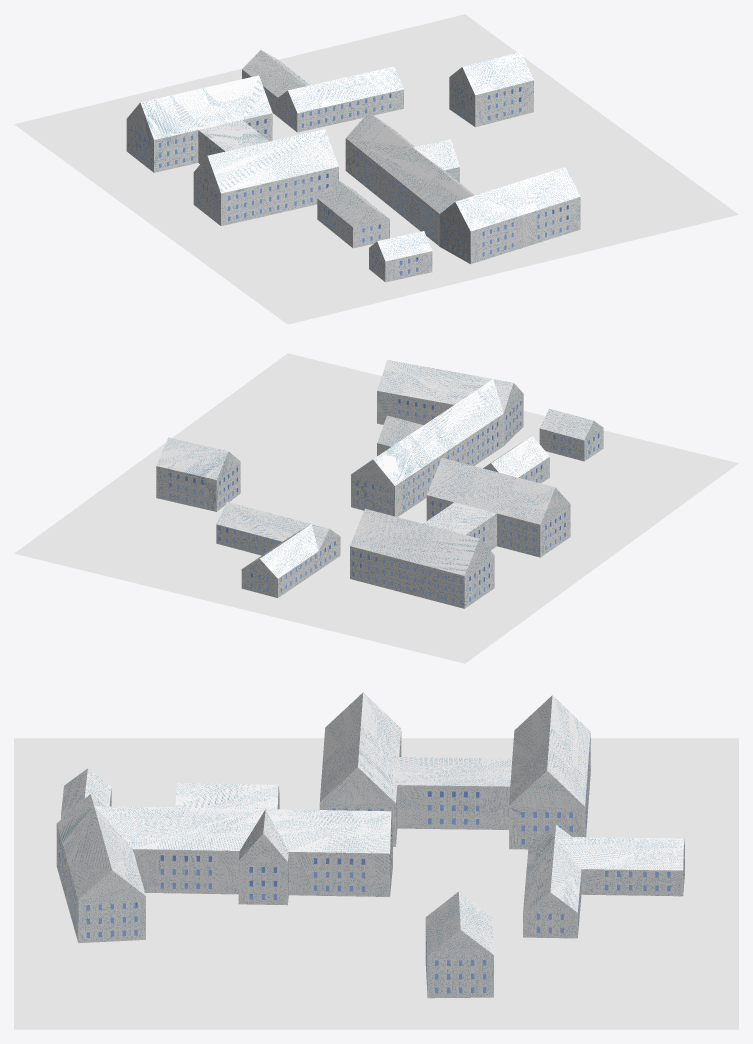
3 renders of one model, top to bottom at view 1: azimuth 30°, elevation 25°; view 2: azimuth 150°, elevation 25°; view 3: azimuth 270°, elevation 25°, orthographic. The views are drawn at different scales.
Visible parts, largest first — view 1: image_0, SketchUp (×6); view 2: image_0, SketchUp (×6); view 3: image_0, SketchUp (×6).
Boxes of the visible parts, box(x1,y1,x2,y2) form: image_0: box(14, 14, 738, 324); SketchUp (×6): box(126, 50, 580, 282); image_0: box(14, 353, 738, 663); SketchUp (×6): box(156, 360, 603, 608); image_0: box(14, 738, 738, 1029); SketchUp (×6): box(56, 692, 684, 998).
Bounding box in the file's own units: 221 × 232 × 28.
